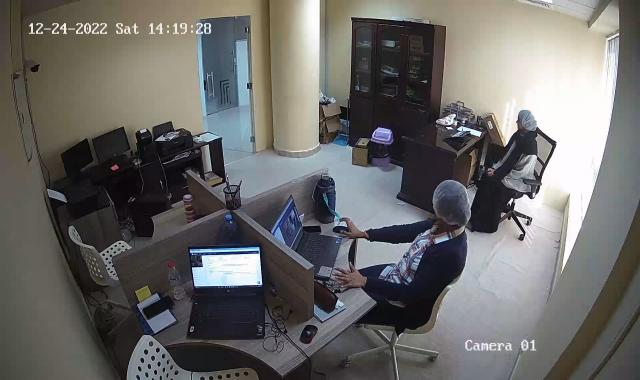hairnet: (433, 182, 471, 230), (518, 108, 538, 131)
